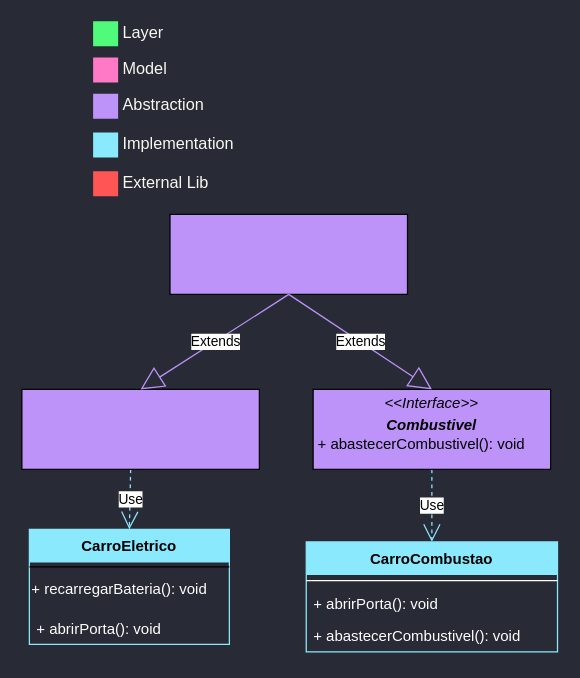
The diagram is 580 pixels wide and 678 high, and some of its shapes have lost their labels. Here are the shapes that lost their labels. From the top down, the centre of each, then its label:
At point 288,253: "<<Interface>> Carro + abrirPorta(): void".
At point 140,428: "<<Interface>> Eletrico + recarregarBateria(): void".
